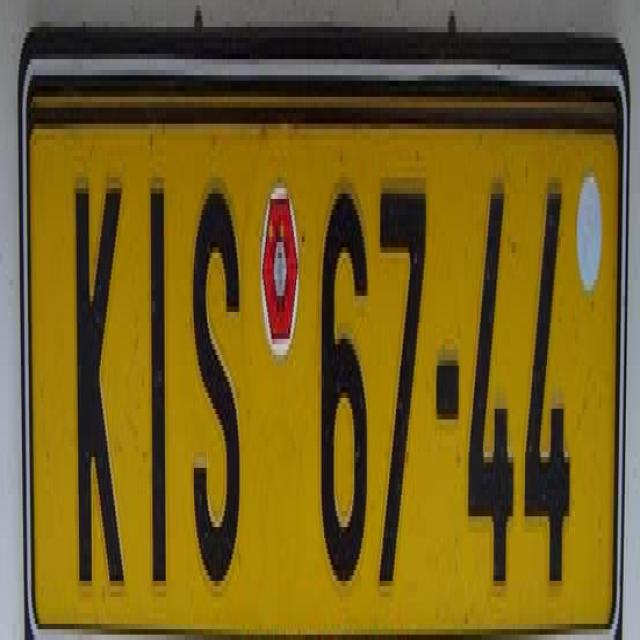Autre: (19, 36, 623, 640)
